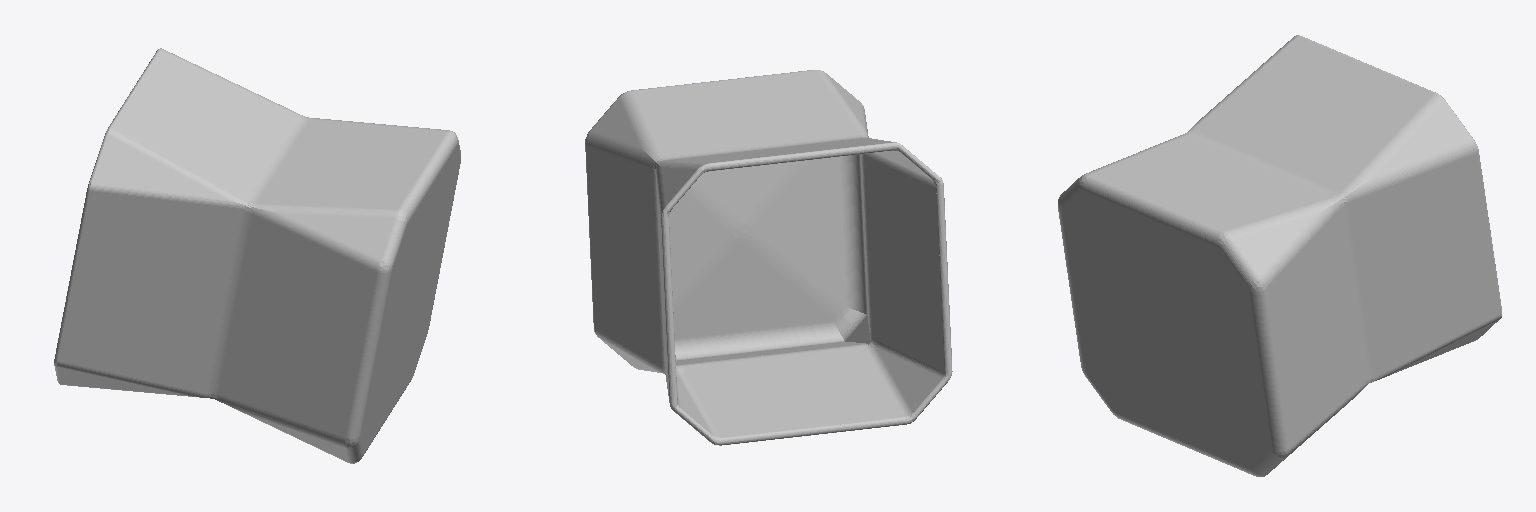
Rendered from glass.obj.
3 views of the same model, side by side, from view 1: azimuth 30°, elevation 25°; view 2: azimuth 150°, elevation 25°; view 3: azimuth 270°, elevation 25° (orthographic).
Parts seen in each view (by area): view 1: Objeto_Objeto1; view 2: Objeto_Objeto1; view 3: Objeto_Objeto1.
Boxes of the visible parts, box(x1,y1,x2,y2) form: Objeto_Objeto1: box(54, 48, 460, 463); Objeto_Objeto1: box(585, 70, 952, 445); Objeto_Objeto1: box(1058, 35, 1501, 476).
Size of the model in its own units: 110 by 84.3 by 110.